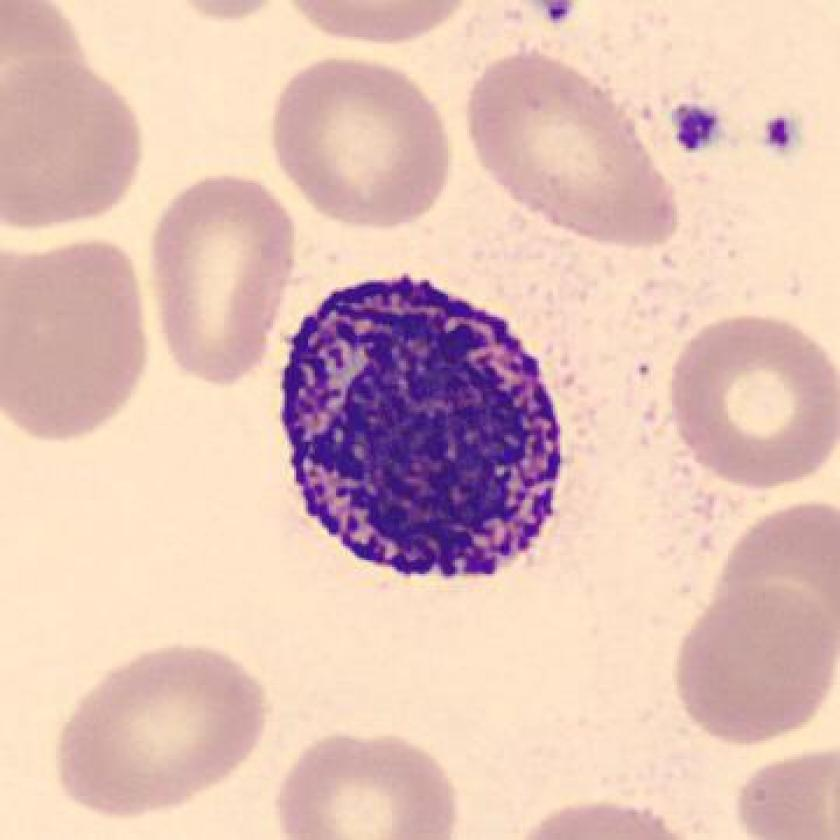basophil: (256, 267, 585, 605)
